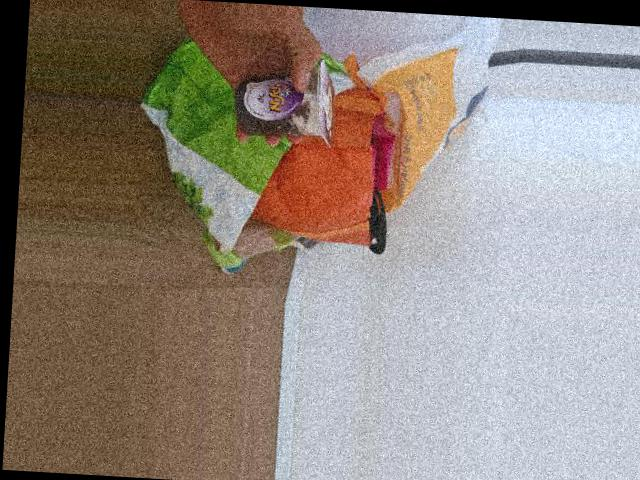milky: (229, 58, 342, 148)
